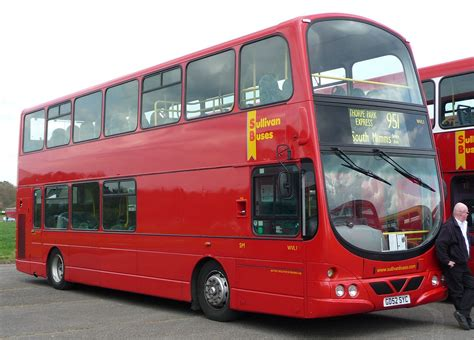bus: (18, 30, 445, 316)
person: (440, 202, 474, 328)
